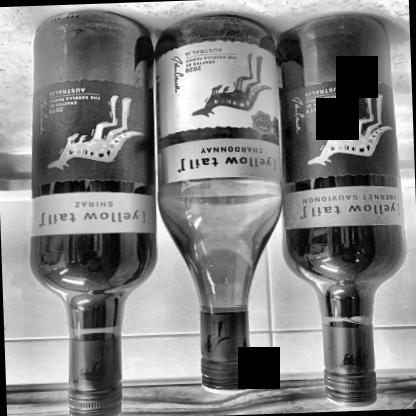yellowtail: (30, 74, 154, 240)
